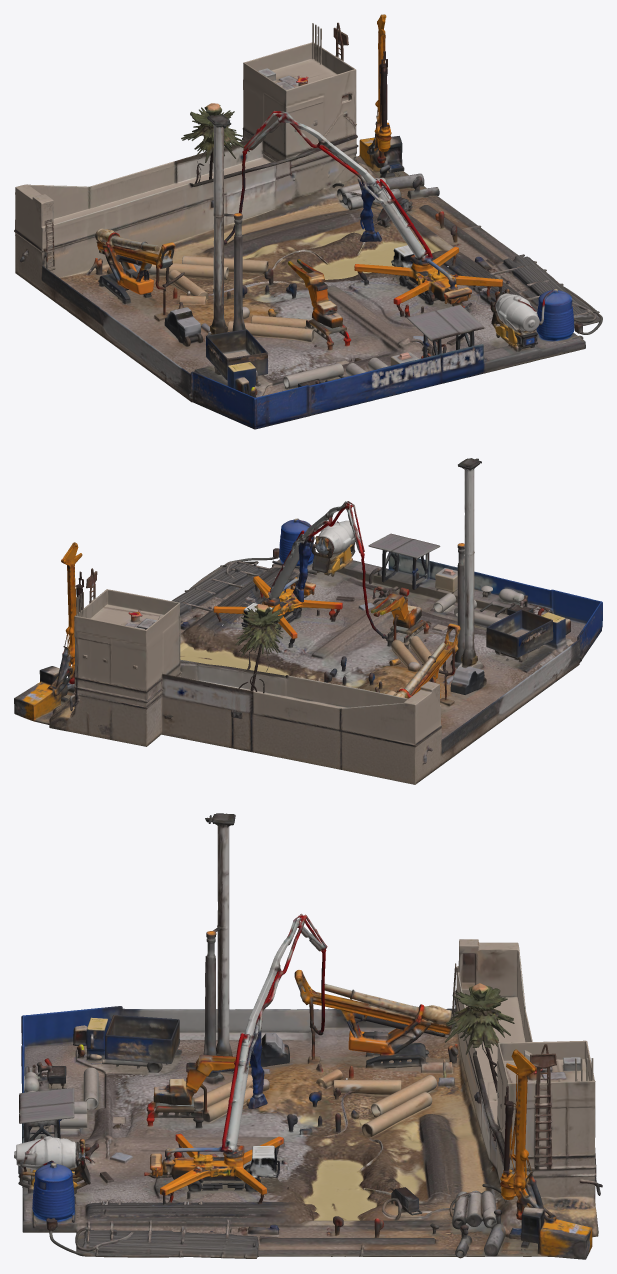
The model's file is fondation-ikolo-tower.glb.
3 views of the same model, one above another, from view 1: azimuth 30°, elevation 25°; view 2: azimuth 150°, elevation 25°; view 3: azimuth 270°, elevation 25° (orthographic). The views are drawn at different scales.
Parts seen in each view (by area): view 1: tripo_node_25908484-544a-4930-801e-e3a7b476fe52; view 2: tripo_node_25908484-544a-4930-801e-e3a7b476fe52; view 3: tripo_node_25908484-544a-4930-801e-e3a7b476fe52.
Part boxes in pixels (x1=…): tripo_node_25908484-544a-4930-801e-e3a7b476fe52: x1=14, y1=14, x2=602, y2=429; tripo_node_25908484-544a-4930-801e-e3a7b476fe52: x1=14, y1=458, x2=602, y2=784; tripo_node_25908484-544a-4930-801e-e3a7b476fe52: x1=14, y1=813, x2=602, y2=1259.
Size of the model in its own units: 36.28 by 20 by 40.4.
1 material, 1 textured.
